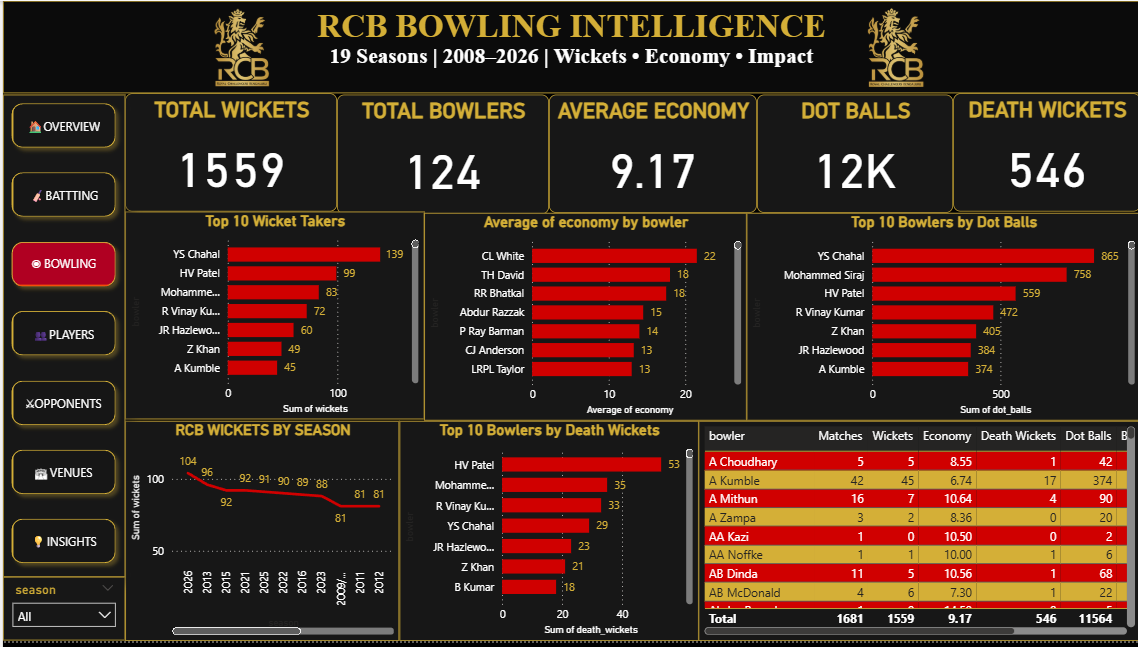

This screenshot's page, from the dashboard's own definition file:
{"tool":"powerbi","page":{"name":"◉ BOWLING","canvas":[1280,720],"ordinal":2},"visuals":[{"type":"textbox","box":[0,0,1280.5,103.9],"z":0},{"type":"slicer","fields":{"Values":["rcb_season_summary.season"]},"box":[0,648.3,137.6,71.7],"z":1000},{"type":"card","title":"TOTAL WICKETS","fields":{"Values":["Sum(rcb_bowling_season_master.wickets)"]},"box":[137.6,103.9,238.5,133.2],"z":2000},{"type":"card","title":"TOTAL BOWLERS","fields":{"Values":["Count(rcb_bowling_season_master.bowler)"]},"box":[376.1,105.4,238.5,134.6],"z":3000},{"type":"card","title":"AVERAGE ECONOMY","fields":{"Values":["Avg(rcb_bowling_season_master.economy)"]},"box":[614.7,105.4,234.2,133.2],"z":4000},{"type":"card","title":"DOT BALLS","fields":{"Values":["Sum(rcb_bowling_season_master.dot_balls)"]},"box":[848.8,105.4,221,133.2],"z":5000},{"type":"card","title":"DEATH WICKETS","fields":{"Values":["Sum(rcb_bowling_season_master.death_wickets)"]},"box":[1069.8,103.9,210.7,133.2],"z":6000},{"type":"clusteredBarChart","title":"Top 10 Wicket Takers","fields":{"Category":["rcb_bowling_season_master.bowler"],"Y":["Sum(rcb_bowling_season_master.wickets)"]},"box":[137.6,237.1,336.6,234.2],"z":7000},{"type":"clusteredBarChart","fields":{"Category":["rcb_bowling_season_master.bowler"],"Y":["Avg(rcb_bowling_season_master.economy)"]},"box":[474.2,238.5,362.9,234.2],"z":8000},{"type":"lineChart","title":"RCB WICKETS BY SEASON","fields":{"Y":["Sum(rcb_bowling_season_master.wickets)"],"Category":["rcb_bowling_season_master.season"]},"box":[137.6,472.7,308.8,247.3],"z":9000},{"type":"clusteredBarChart","title":"Top 10 Bowlers by Dot Balls","fields":{"Category":["rcb_bowling_season_master.bowler"],"Y":["Sum(rcb_bowling_season_master.dot_balls)"]},"box":[837.1,238.5,443.4,234.2],"z":10000},{"type":"clusteredBarChart","title":"Top 10 Bowlers by Death Wickets","fields":{"Category":["rcb_bowling_season_master.bowler"],"Y":["Sum(rcb_bowling_season_master.death_wickets)"]},"box":[446.4,472.7,336.6,247.3],"z":11000},{"type":"tableEx","fields":{"Values":["rcb_bowling_season_master.bowler","Sum(rcb_bowling_season_master.matches)","Sum(rcb_bowling_season_master.wickets)","Avg(rcb_bowling_season_master.economy)","Sum(rcb_bowling_season_master.death_wickets)","Sum(rcb_bowling_season_master.dot_balls)","Sum(rcb_bowling_season_master.bowling_average)","Sum(rcb_bowling_season_master.bowling_strike_rate)"]},"box":[783,472.7,497.6,247.3],"z":12000},{"type":"pageNavigator","box":[0,105.4,137.6,543],"z":13000},{"type":"image","box":[190.3,0,156.6,103.9],"z":14000},{"type":"image","box":[897.1,0,215.1,103.9],"z":15000}]}

Visuals, with their boxes in screenshot pixels (x1, y1, x2, y2), scaled from the page's 1280x720 canvas onto the 1138x647 screenshot:
textbox: l=0, t=0, r=1137, b=93
slicer - rcb_season_summary.season: l=0, t=583, r=122, b=646
"TOTAL WICKETS" card: l=122, t=93, r=334, b=213
"TOTAL BOWLERS" card: l=334, t=95, r=546, b=216
"AVERAGE ECONOMY" card: l=547, t=95, r=755, b=214
"DOT BALLS" card: l=755, t=95, r=951, b=214
"DEATH WICKETS" card: l=951, t=93, r=1137, b=213
"Top 10 Wicket Takers" clusteredBarChart: l=122, t=213, r=422, b=424
clusteredBarChart - rcb_bowling_season_master.bowler x Avg(rcb_bowling_season_master.economy): l=422, t=214, r=744, b=425
"RCB WICKETS BY SEASON" lineChart: l=122, t=425, r=397, b=646
"Top 10 Bowlers by Dot Balls" clusteredBarChart: l=744, t=214, r=1137, b=425
"Top 10 Bowlers by Death Wickets" clusteredBarChart: l=397, t=425, r=696, b=646
tableEx - rcb_bowling_season_master.bowler x Sum(rcb_bowling_season_master.matches): l=696, t=425, r=1137, b=646
pageNavigator: l=0, t=95, r=122, b=583
image: l=169, t=0, r=308, b=93
image: l=798, t=0, r=989, b=93
